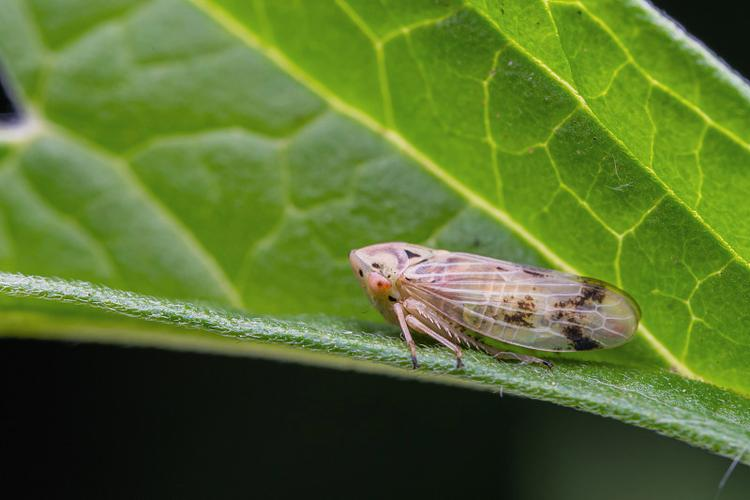Cicadellidae: (349, 242, 644, 376)
